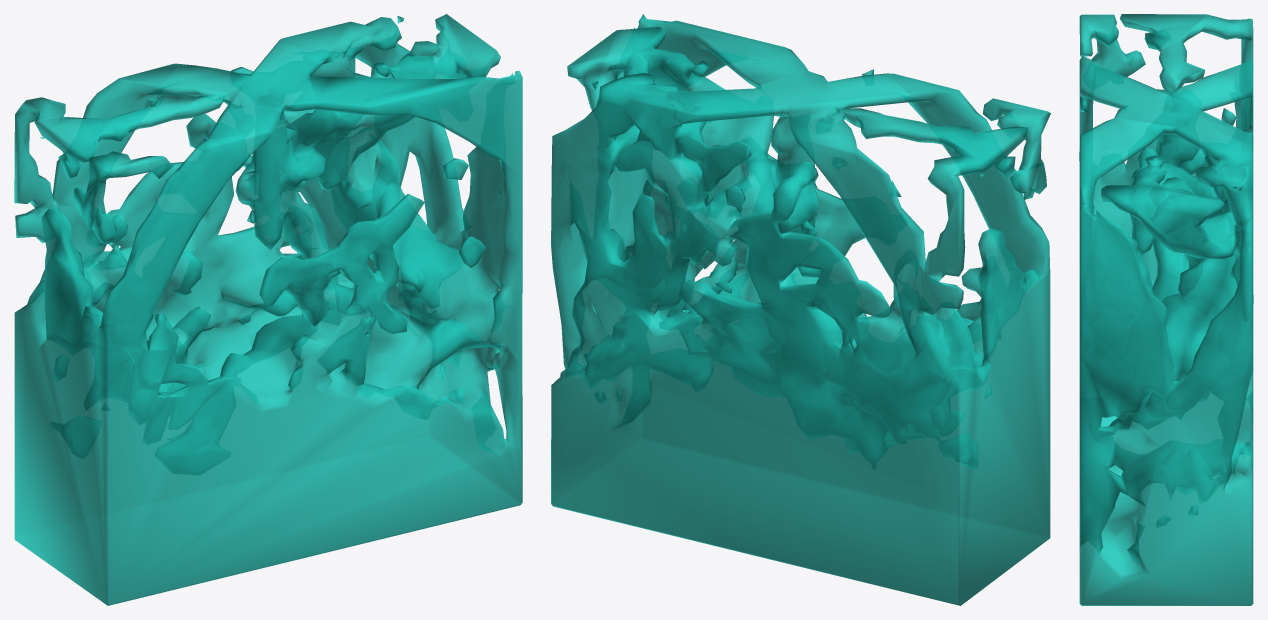
The picture shows the model from 3 angles, left to right: view 1: azimuth 30°, elevation 25°; view 2: azimuth 150°, elevation 25°; view 3: azimuth 270°, elevation 25°; orthographic projection. The views are drawn at different scales.
Parts seen in each view (by area): view 1: Liquid_Domain; view 2: Liquid_Domain; view 3: Liquid_Domain.
Boxes of the visible parts, <box> form: Liquid_Domain: <box>14,14,522,605</box>; Liquid_Domain: <box>551,14,1050,605</box>; Liquid_Domain: <box>1079,14,1253,605</box>.
Bounding box in the file's own units: 1965 × 1966 × 766.
